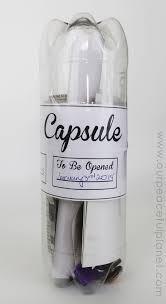Plastic: (36, 12, 134, 301)
